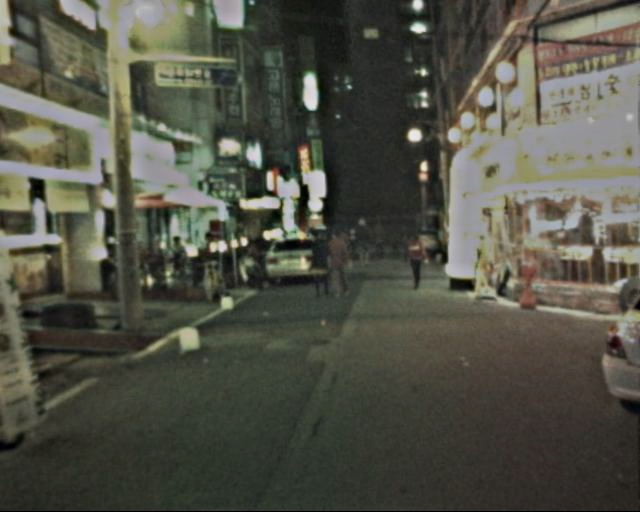person: (321, 224, 351, 301), (304, 225, 334, 301), (401, 225, 430, 291), (350, 215, 375, 269), (376, 225, 401, 263)
